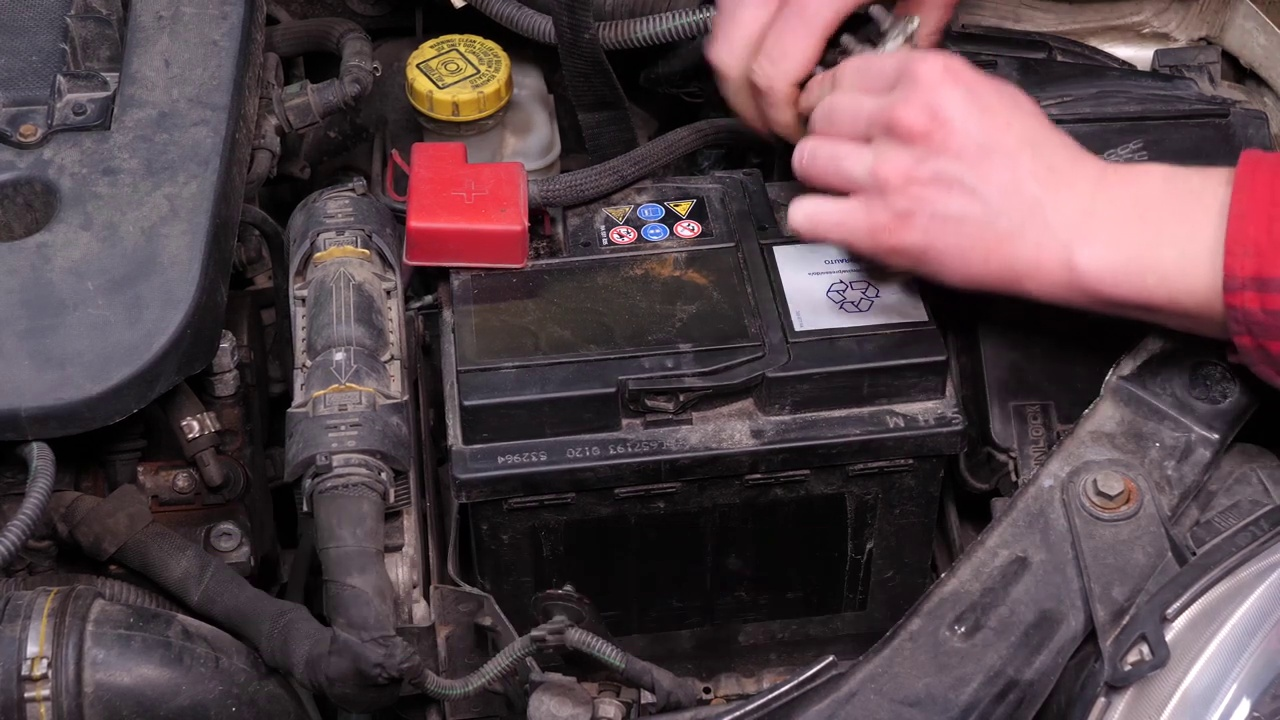battery: (384, 136, 963, 442)
pos_connected: (385, 102, 542, 291)
